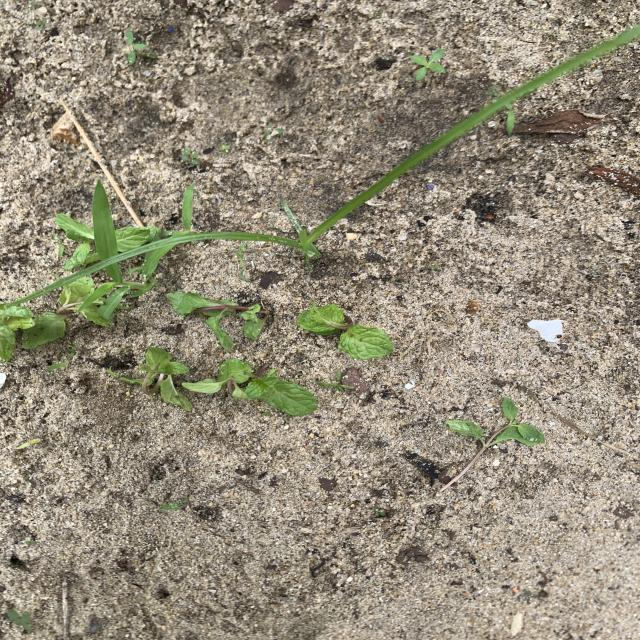crop: (440, 397, 544, 492), (182, 359, 318, 417), (23, 278, 113, 349), (166, 291, 272, 351), (296, 302, 393, 360), (140, 347, 193, 411), (55, 214, 99, 270), (0, 303, 35, 361), (115, 226, 159, 252), (109, 370, 141, 385)
weed: (196, 124, 471, 268), (75, 262, 154, 322), (160, 184, 195, 239), (121, 28, 159, 66), (410, 49, 446, 81), (4, 607, 34, 633), (236, 241, 254, 281), (263, 124, 285, 142), (181, 148, 199, 166), (506, 102, 514, 136), (219, 145, 230, 153)
